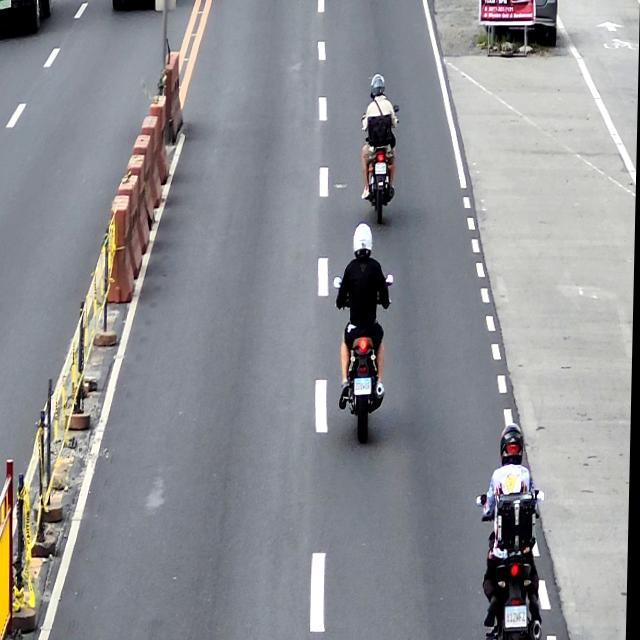License-Plate: (508, 607, 530, 627), (356, 376, 374, 396), (376, 162, 388, 176)
Motorcycle: (331, 273, 394, 447), (478, 492, 546, 640), (364, 102, 402, 224)
